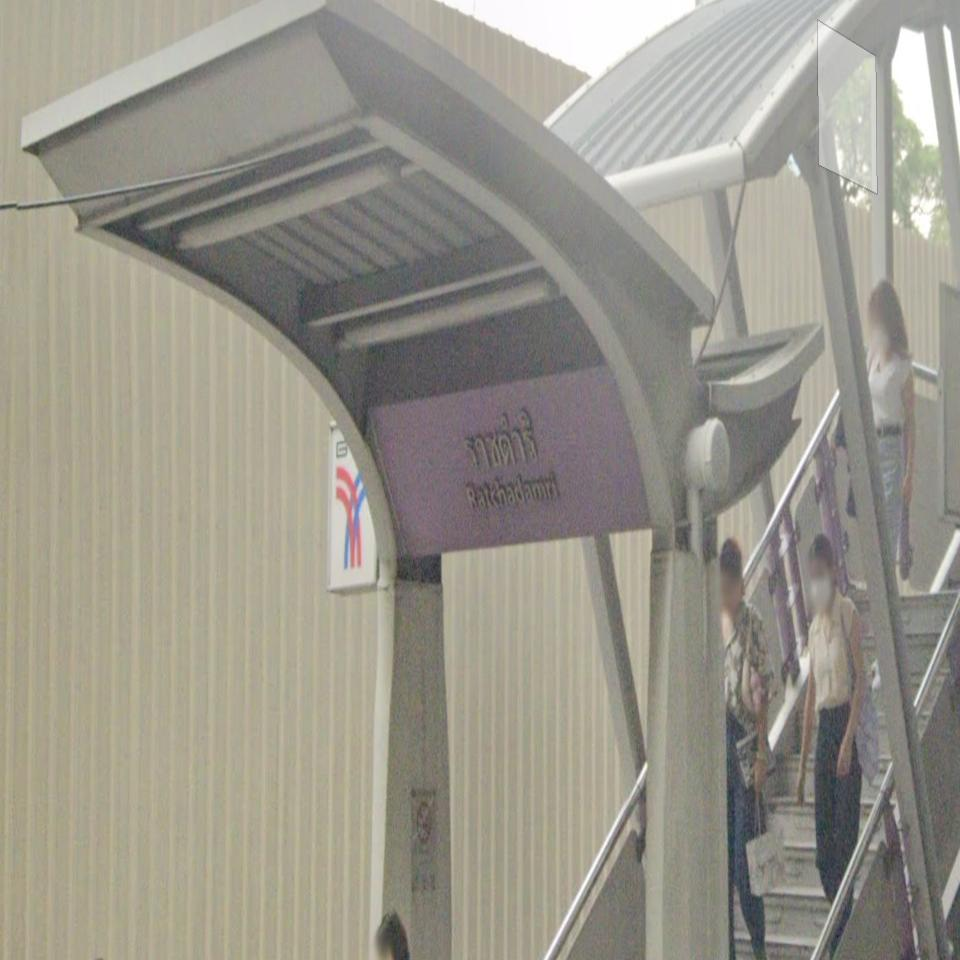signage: (326, 364, 653, 592), (370, 364, 652, 558)
